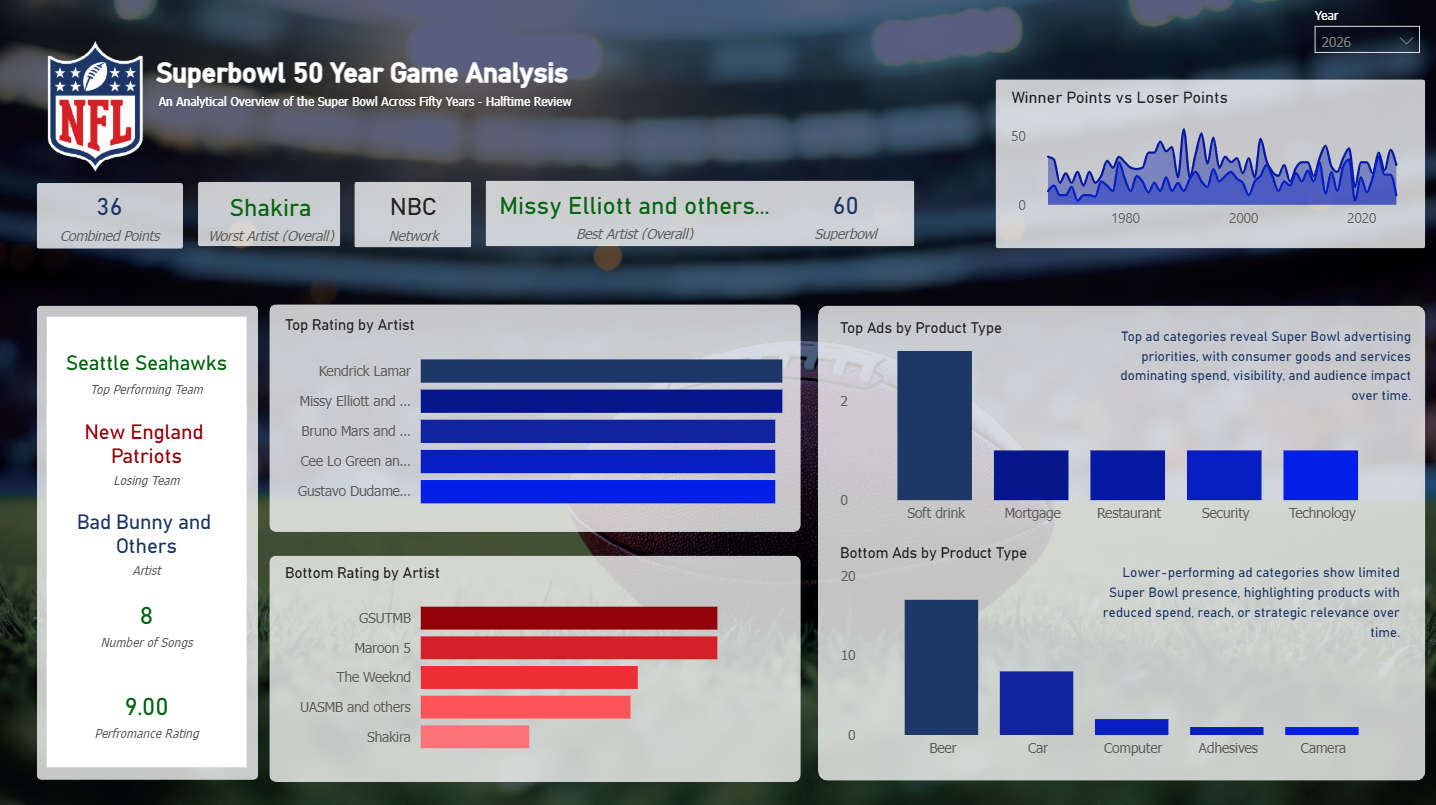

The page's visual inventory and layout, read from the dashboard file:
{"tool":"powerbi","page":{"name":"Halftime Review","canvas":[1280,720],"ordinal":1},"visuals":[{"type":"image","box":[0,0,1280,721.2],"z":0},{"type":"textbox","box":[135.3,47.5,430.7,41.5],"z":1000},{"type":"shape","box":[34,272.9,196.8,421.7],"z":2000},{"type":"shape","box":[34,164,130,58.6],"z":3000},{"type":"slicer","fields":{"Values":["super_bowls_final.date.Variation.Date Hierarchy.Year"]},"box":[1165.4,19.9,103.1,36.3],"z":4000},{"type":"card","fields":{"Values":["Sum(super_bowls_final.combined_pts)"]},"box":[39.8,162.8,118.3,58.6],"z":5000},{"type":"shape","box":[178.1,163.3,126.6,57.4],"z":6000},{"type":"card","fields":{"Values":["Measures_Table.Worst Artist (Overall)"]},"box":[179.5,163.3,125.1,58.9],"z":7000},{"type":"shape","box":[317,163.8,104.2,58.6],"z":8000},{"type":"shape","box":[241.2,272.5,472.5,202.5],"z":9000},{"type":"card","fields":{"Values":["Min(tv_final_fixed.network)"]},"box":[326.4,163.8,85.5,58.6],"z":10000},{"type":"shape","box":[433.8,162.5,381.2,58.8],"z":11000},{"type":"card","fields":{"Values":["Measures_Table.Best Artist (Overall)"]},"box":[438.8,162.5,253.8,57.5],"z":12000},{"type":"card","fields":{"Values":["Sum(super_bowls_final.super_bowl)"]},"box":[692.5,162.5,122.5,58.8],"z":13000},{"type":"textbox","box":[137.5,76.4,491.4,42.3],"z":14000},{"type":"card","fields":{"Values":["Measures_Table.Top Performing Team"]},"box":[43.8,283.8,177.5,96.2],"z":15000},{"type":"card","fields":{"Values":["Min(halftime_musician_final.artist)"]},"box":[43.8,442.5,177.5,81.2],"z":16000},{"type":"card","fields":{"Values":["Sum(halftime_musician_final.num_songs)"]},"box":[43.8,515,177.5,78.8],"z":17000},{"type":"card","fields":{"Values":["Min(super_bowls_final.team_loser)"]},"box":[43.8,362.5,177.5,81.2],"z":18000},{"type":"shape","box":[241.2,495,472.5,201.2],"z":19000},{"type":"shape","box":[728.8,273.8,540,422.5],"z":20000},{"type":"shape","box":[886.4,71.7,382.1,150.5],"z":21000},{"type":"textbox","box":[1165,0,103.5,37.6],"z":22000},{"type":"areaChart","title":"Winner Points vs Loser Points","fields":{"Category":["superbowl_final_dates_fixed.Date.Variation.Date Hierarchy.Year","superbowl_final_dates_fixed.Date.Variation.Date Hierarchy.Month"],"Y":["Sum(superbowl_final_dates_fixed.Winner Pts)","Sum(superbowl_final_dates_fixed.Loser Pts)"]},"box":[895.8,79.9,365.6,134],"z":23000},{"type":"card","fields":{"Values":["Sum(halftime_musician_final.performance_rating)"]},"box":[43.8,587.5,177.5,96.2],"z":24000},{"type":"clusteredBarChart","title":"Bottom Rating by Artist","fields":{"Category":["Bottom 5 Artists.artist"],"Y":["Sum(Bottom 5 Artists.AvgRating)"]},"box":[250,503.8,452.5,180],"z":25000},{"type":"clusteredBarChart","title":"Top Rating by Artist","fields":{"Category":["Top 5 Artists.artist"],"Y":["Sum(Top 5 Artists.AvgRating)"]},"box":[250,283.8,452.5,182.5],"z":26000},{"type":"columnChart","title":"Top Ads by Product Type","fields":{"Y":["CountNonNull(superbowl_ads_final_clean.year)"],"Category":["superbowl_ads_final_clean.Product Type"]},"box":[743.8,285,507.5,190],"z":27000},{"type":"columnChart","title":"Bottom Ads by Product Type","fields":{"Y":["CountNonNull(superbowl_ads_final_clean.year)"],"Category":["superbowl_ads_final_clean.Product Type"]},"box":[743.8,485,507.5,198.8],"z":28000},{"type":"textbox","box":[962.5,495,288.8,83.8],"z":29000},{"type":"textbox","box":[972.5,285,288.8,83.8],"z":30000}]}

Visuals, with their boxes in screenshot pixels (x1, y1, x2, y2), scaled from the page's 1280x720 canvas onto the 1436x805 screenshot:
image: region(0, 0, 1435, 804)
textbox: region(152, 53, 635, 100)
shape: region(38, 305, 259, 777)
shape: region(38, 183, 184, 249)
slicer - super_bowls_final.date.Variation.Date Hierarchy.Year: region(1307, 22, 1423, 63)
card - Sum(super_bowls_final.combined_pts): region(45, 182, 177, 248)
shape: region(200, 183, 342, 247)
card - Measures_Table.Worst Artist (Overall): region(201, 183, 342, 248)
shape: region(356, 183, 473, 249)
shape: region(271, 305, 801, 531)
card - Min(tv_final_fixed.network): region(366, 183, 462, 249)
shape: region(487, 182, 914, 247)
card - Measures_Table.Best Artist (Overall): region(492, 182, 777, 246)
card - Sum(super_bowls_final.super_bowl): region(777, 182, 914, 247)
textbox: region(154, 85, 706, 133)
card - Measures_Table.Top Performing Team: region(49, 317, 248, 425)
card - Min(halftime_musician_final.artist): region(49, 495, 248, 586)
card - Sum(halftime_musician_final.num_songs): region(49, 576, 248, 664)
card - Min(super_bowls_final.team_loser): region(49, 405, 248, 496)
shape: region(271, 553, 801, 778)
shape: region(818, 306, 1423, 779)
shape: region(994, 80, 1423, 248)
textbox: region(1307, 0, 1423, 42)
"Winner Points vs Loser Points" areaChart: region(1005, 89, 1415, 239)
card - Sum(halftime_musician_final.performance_rating): region(49, 657, 248, 764)
"Bottom Rating by Artist" clusteredBarChart: region(280, 563, 788, 765)
"Top Rating by Artist" clusteredBarChart: region(280, 317, 788, 521)
"Top Ads by Product Type" columnChart: region(834, 319, 1404, 531)
"Bottom Ads by Product Type" columnChart: region(834, 542, 1404, 765)
textbox: region(1080, 553, 1404, 647)
textbox: region(1091, 319, 1415, 412)
